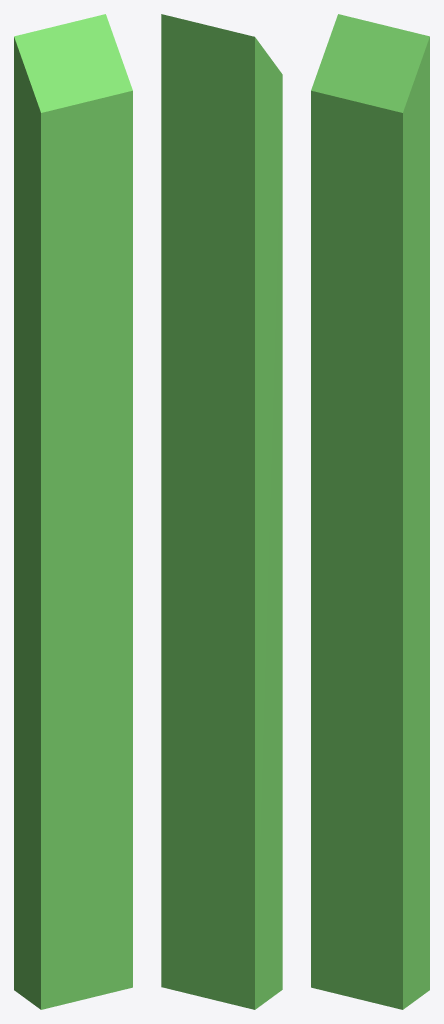
The model's file is sm_Collider21.fbx.
The picture shows the model from 3 angles, left to right: view 1: azimuth 30°, elevation 25°; view 2: azimuth 150°, elevation 25°; view 3: azimuth 330°, elevation 25°; orthographic projection. The views are drawn at different scales.
Parts seen in each view (by area): view 1: sm_Collider.024; view 2: sm_Collider.024; view 3: sm_Collider.024.
Part boxes in pixels (box(x1,y1,x2,y2)): sm_Collider.024: box(14, 14, 132, 1009); sm_Collider.024: box(161, 14, 282, 1009); sm_Collider.024: box(311, 14, 429, 1009).
Size of the model in its own units: 561 by 5567 by 287.
